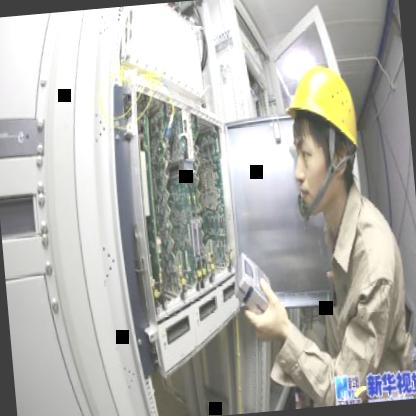helmet: (270, 37, 370, 228)
